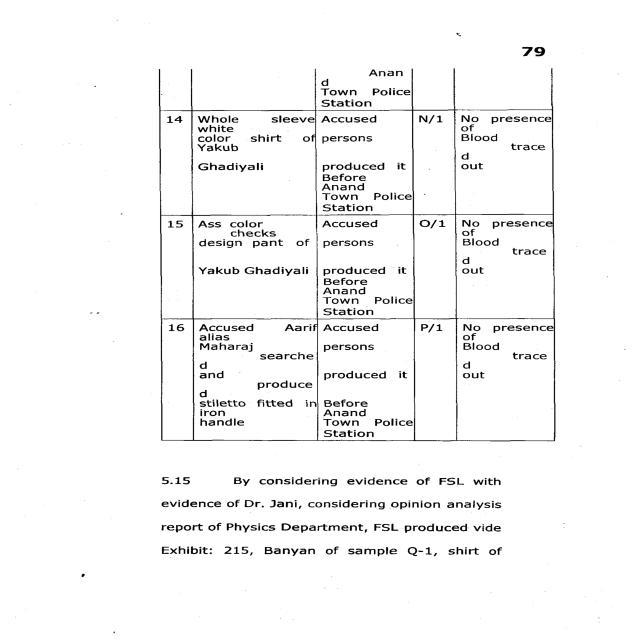page-number: (401, 0, 640, 61)
